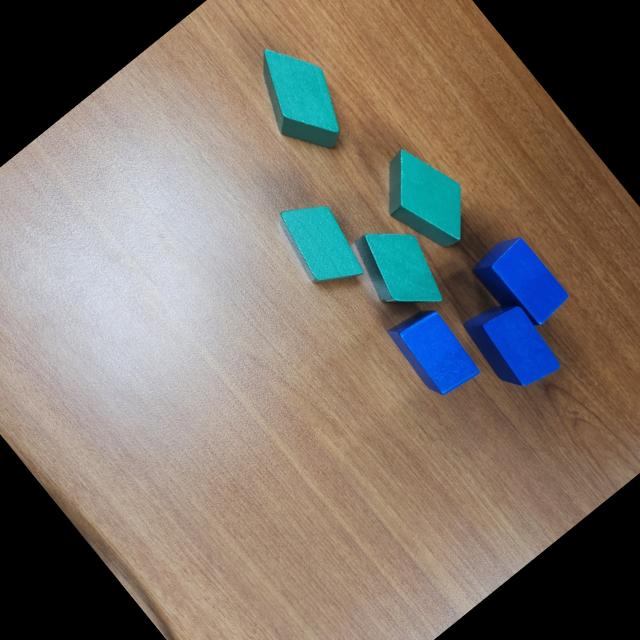blue: (457, 287, 568, 403), (468, 227, 574, 338), (385, 299, 485, 404)
green: (233, 30, 365, 169), (362, 136, 487, 264), (342, 209, 458, 331), (264, 184, 377, 302)
